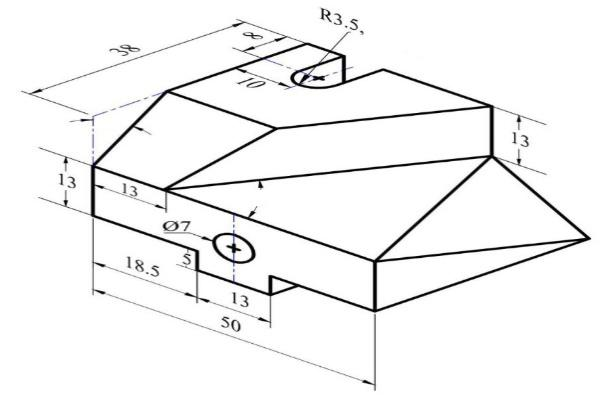dimensions: (313, 0, 361, 35), (125, 253, 163, 282), (215, 309, 250, 334), (226, 284, 257, 312), (499, 126, 533, 151), (105, 39, 144, 59), (53, 169, 85, 193), (157, 217, 196, 236), (236, 74, 268, 95), (241, 26, 266, 45), (118, 181, 142, 200), (177, 251, 196, 269)
